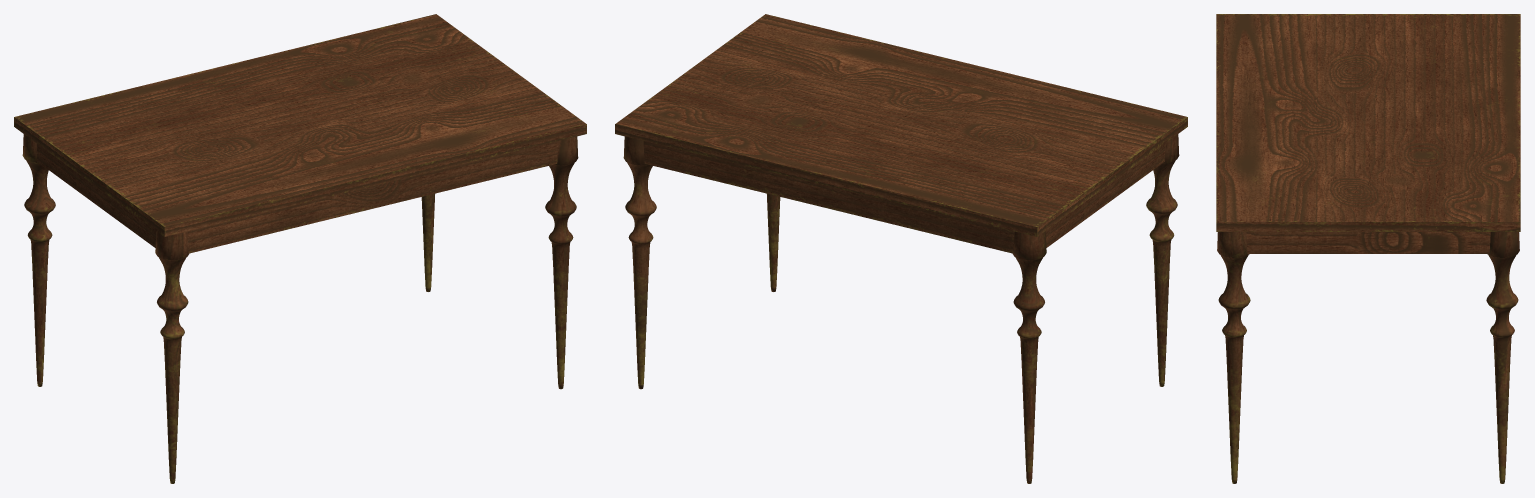
File: Table18.fbx
The picture shows the model from 3 angles, left to right: view 1: azimuth 30°, elevation 25°; view 2: azimuth 150°, elevation 25°; view 3: azimuth 270°, elevation 25°; orthographic projection.
Parts seen in each view (by area): view 1: Table18; view 2: Table18; view 3: Table18.
Part boxes in pixels (x1,y1,x2,y2): Table18: (14,14,586,483); Table18: (615,14,1187,483); Table18: (1216,14,1520,483).
Bounding box in the file's own units: 120 × 72.29 × 73.97.
